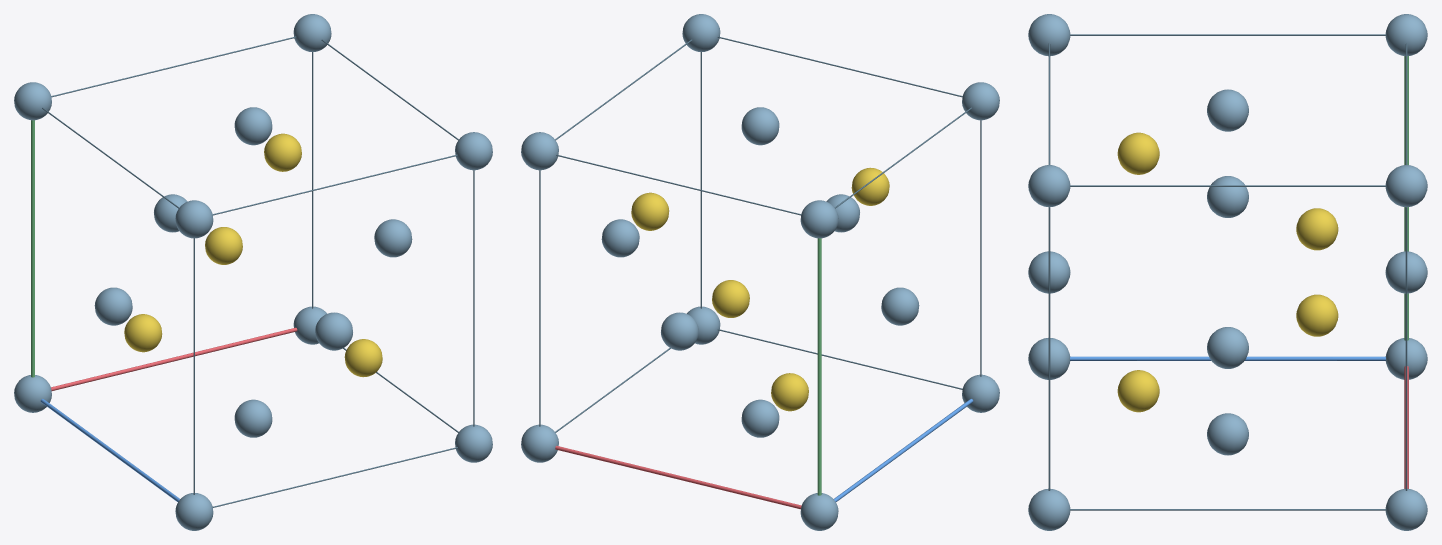
File: sphalerite.glb
3 renders of one model, left to right at view 1: azimuth 30°, elevation 25°; view 2: azimuth 150°, elevation 25°; view 3: azimuth 270°, elevation 25°, orthographic. The views are drawn at different scales.
Visible parts, largest first — view 1: Zn · Zn · 1 (×14), Ô mạng và các trục a, b, c, S · S · 1 (×4); view 2: Zn · Zn · 1 (×14), Ô mạng và các trục a, b, c, S · S · 1 (×4); view 3: Zn · Zn · 1 (×14), Ô mạng và các trục a, b, c, S · S · 1 (×4).
Boxes of the visible parts, box(x1,y1,x2,y2) form: Zn · Zn · 1 (×14): box(14, 14, 492, 530); Ô mạng và các trục a, b, c: box(31, 36, 474, 507); S · S · 1 (×4): box(124, 133, 382, 377); Zn · Zn · 1 (×14): box(521, 14, 999, 530); Ô mạng và các trục a, b, c: box(539, 36, 981, 509); S · S · 1 (×4): box(631, 167, 889, 411); Zn · Zn · 1 (×14): box(1028, 14, 1427, 530); Ô mạng và các trục a, b, c: box(1048, 34, 1408, 510); S · S · 1 (×4): box(1117, 132, 1338, 412).
Bounding box in the file's own units: 6.05 × 6.05 × 6.05.
